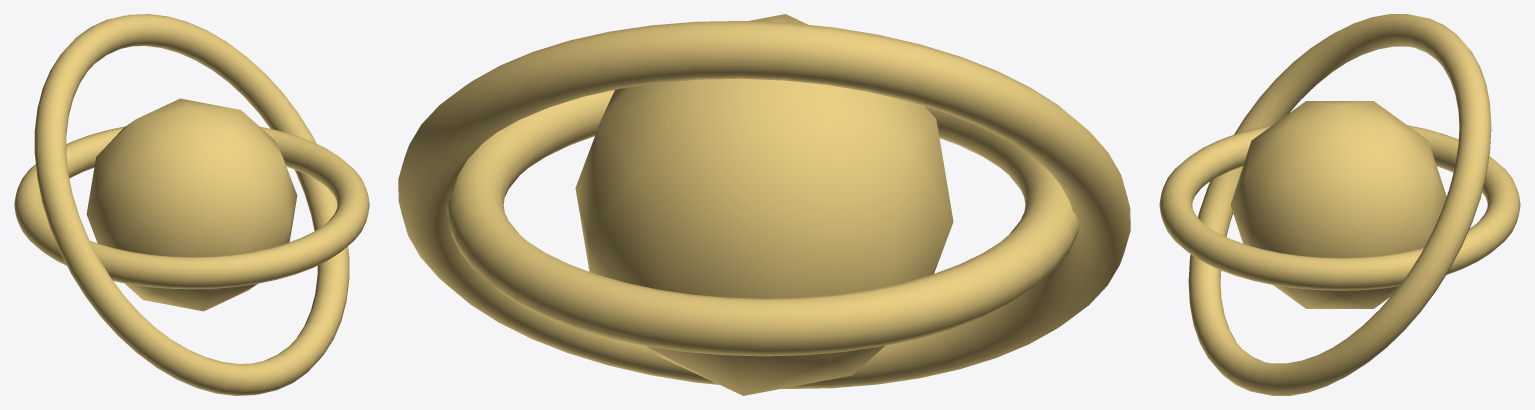
Rendered from SM_Anomalous_Core.fbx.
The picture shows the model from 3 angles, left to right: view 1: azimuth 30°, elevation 25°; view 2: azimuth 150°, elevation 25°; view 3: azimuth 270°, elevation 25°; orthographic projection. The views are drawn at different scales.
Visible parts, largest first — view 1: SM_Anomalous_Core; view 2: SM_Anomalous_Core; view 3: SM_Anomalous_Core.
Part boxes in pixels (x1=…): SM_Anomalous_Core: x1=14, y1=14, x2=369, y2=395; SM_Anomalous_Core: x1=398, y1=14, x2=1130, y2=395; SM_Anomalous_Core: x1=1159, y1=14, x2=1520, y2=395.
Size of the model in its own units: 28.56 by 24.5 by 26.4.
